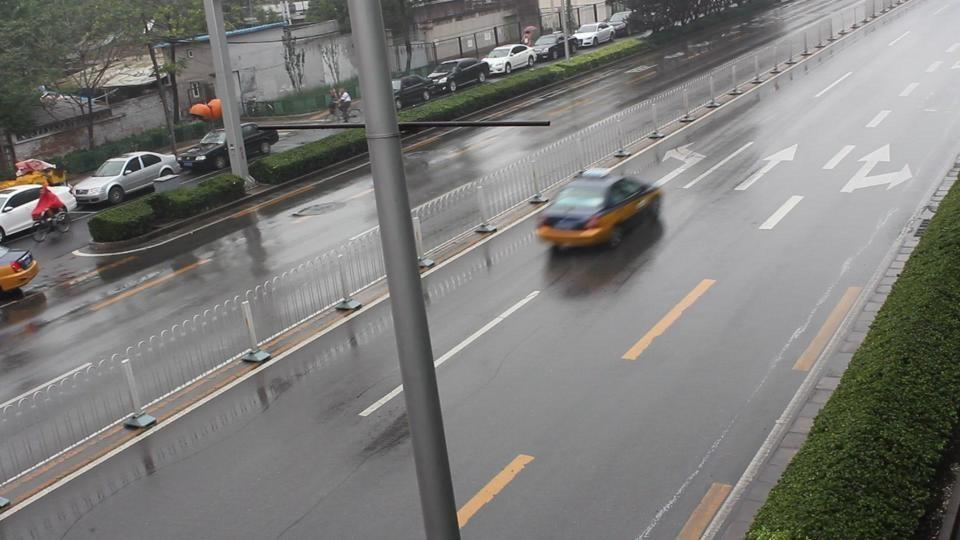car: (533, 167, 665, 251), (71, 150, 181, 208), (176, 124, 281, 174), (0, 183, 71, 242), (400, 63, 467, 102), (427, 57, 490, 93), (482, 42, 540, 76), (0, 247, 41, 295), (391, 75, 449, 108), (531, 31, 579, 62), (13, 158, 62, 183), (572, 22, 615, 49)
